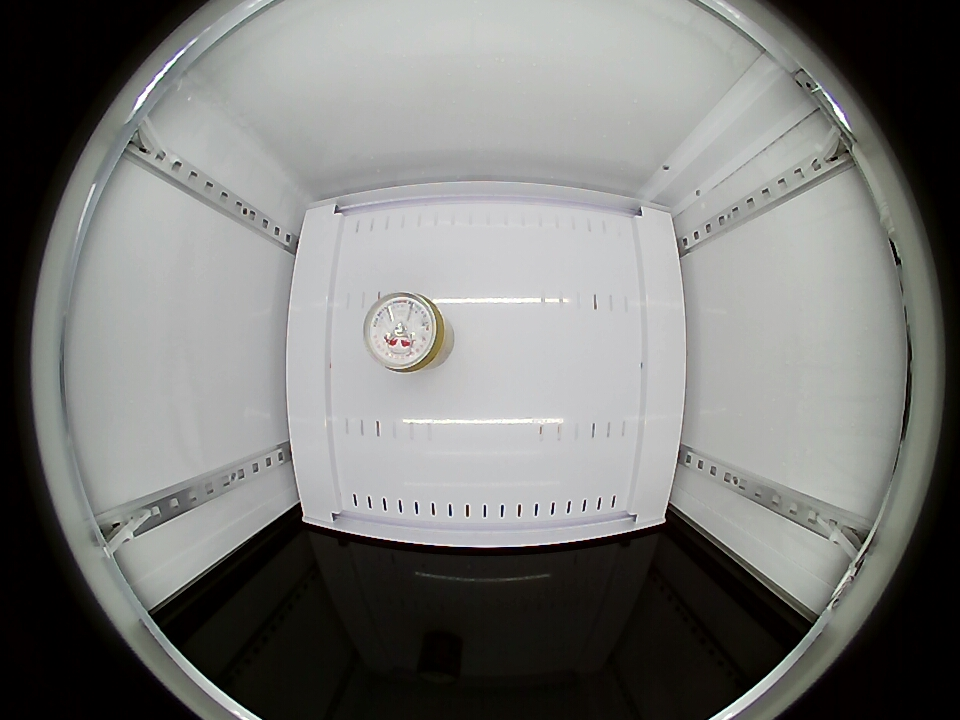hongniu2: (364, 291, 452, 373)
